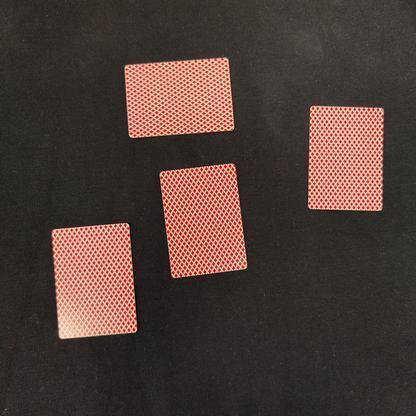card: (43, 214, 145, 348), (152, 153, 254, 286), (108, 51, 246, 145), (296, 92, 393, 222)
